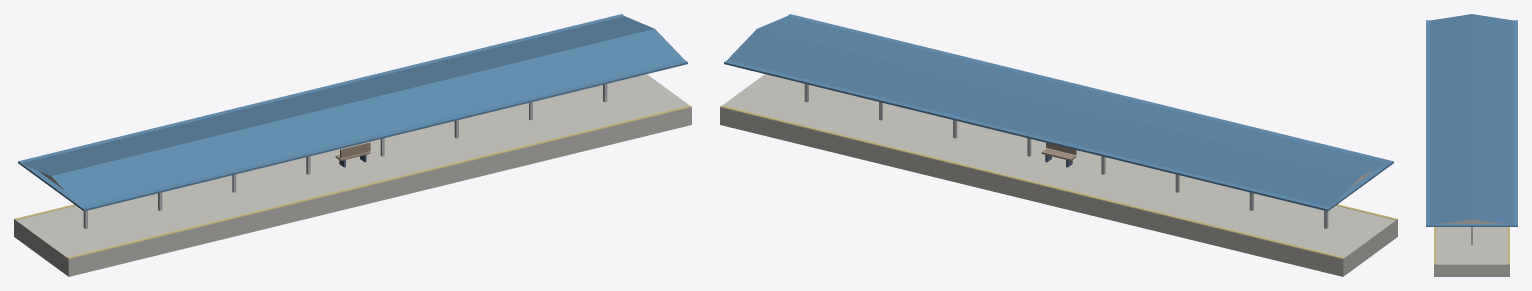
File: 03_stations_3x3-07.glb
The picture shows the model from 3 angles, left to right: view 1: azimuth 30°, elevation 25°; view 2: azimuth 150°, elevation 25°; view 3: azimuth 270°, elevation 25°; orthographic projection. The views are drawn at different scales.
Bounding box in the file's own units: 42 × 5.05 × 7.7.
